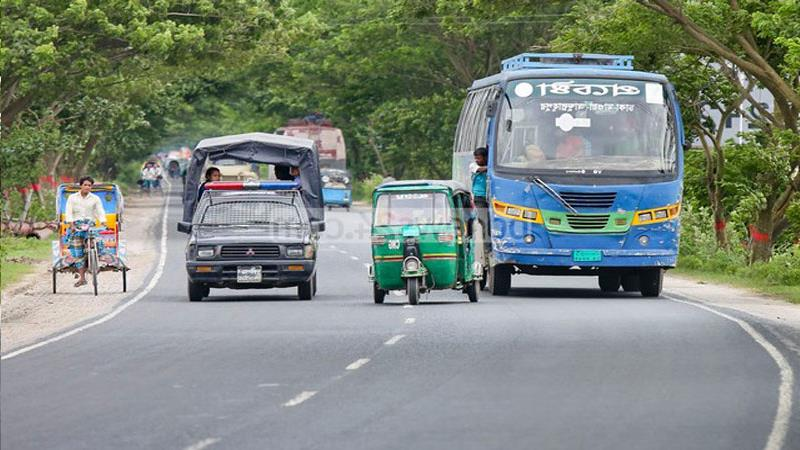Rickshaw: (48, 169, 142, 308)
